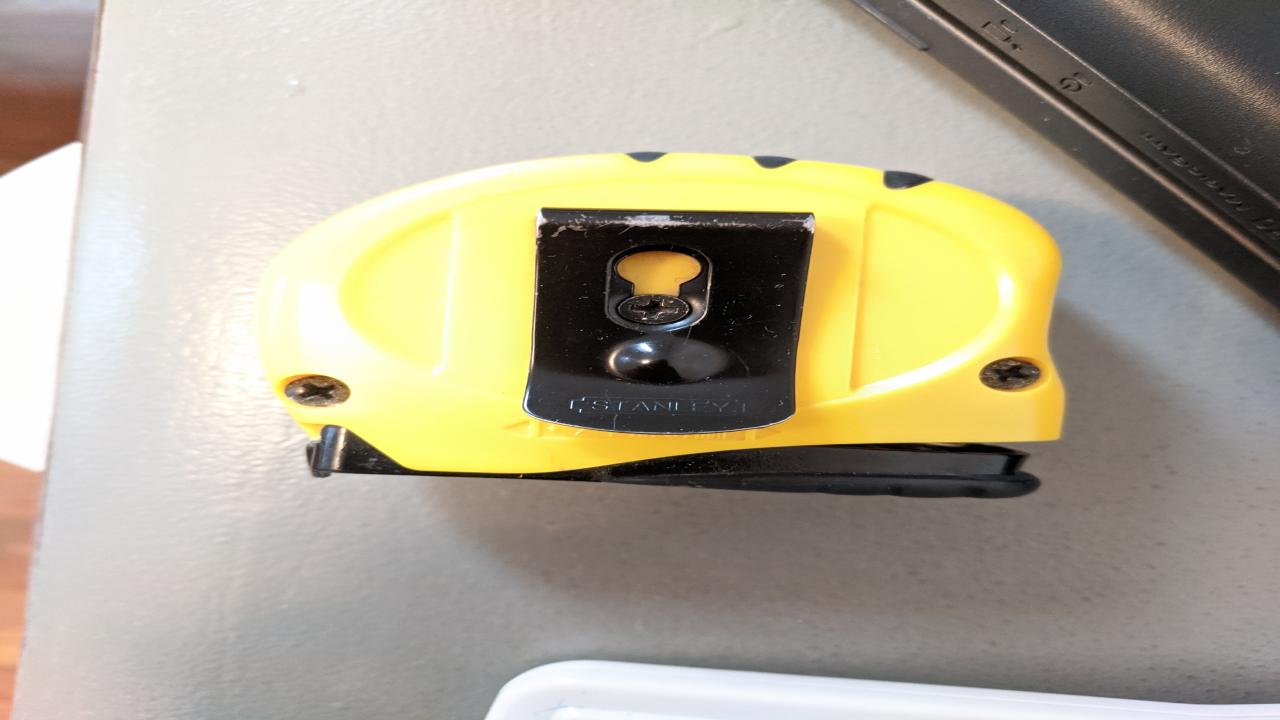CRS: (266, 369, 359, 409), (966, 352, 1044, 393), (612, 295, 696, 326)
